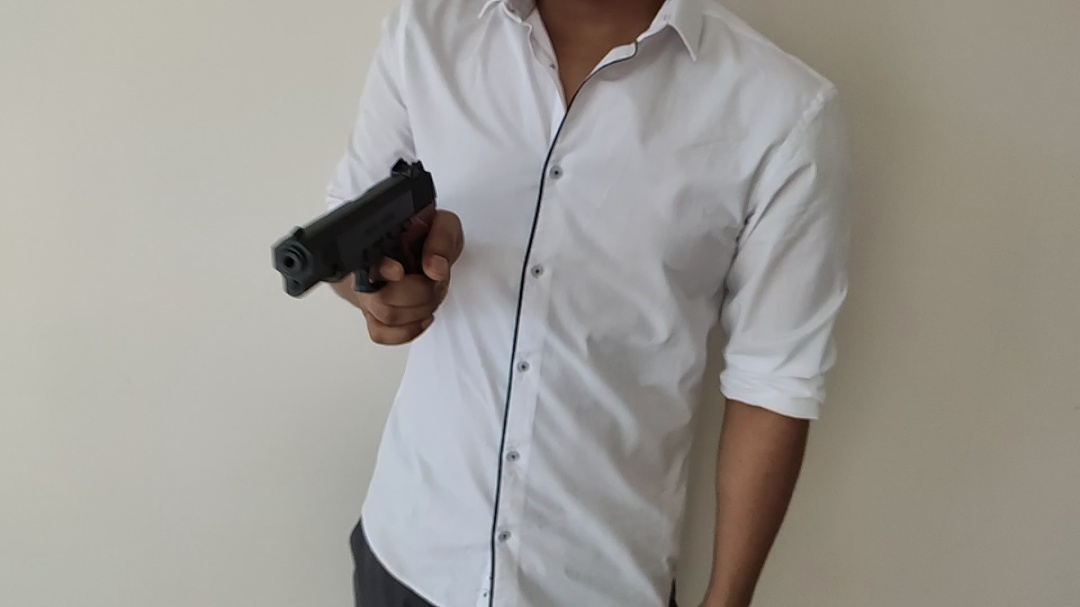gun: (149, 59, 956, 542)
